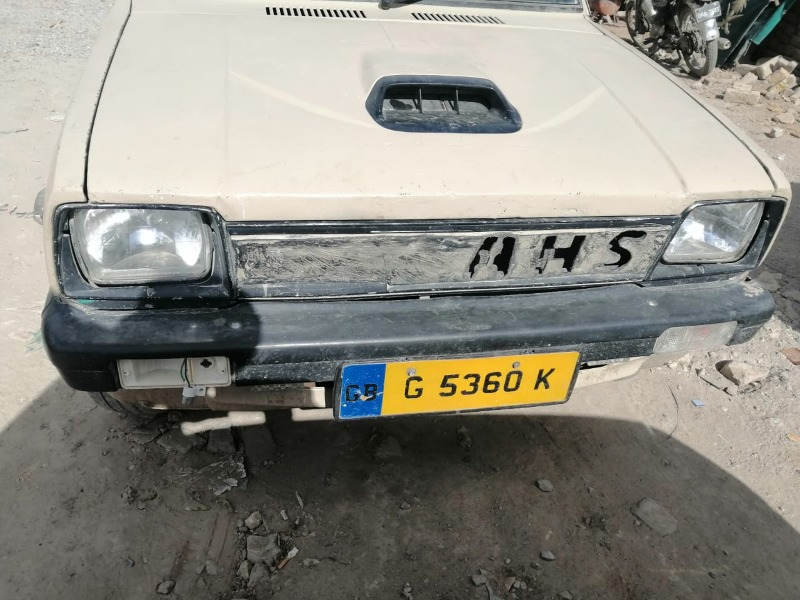License Plate: (333, 353, 581, 421)
